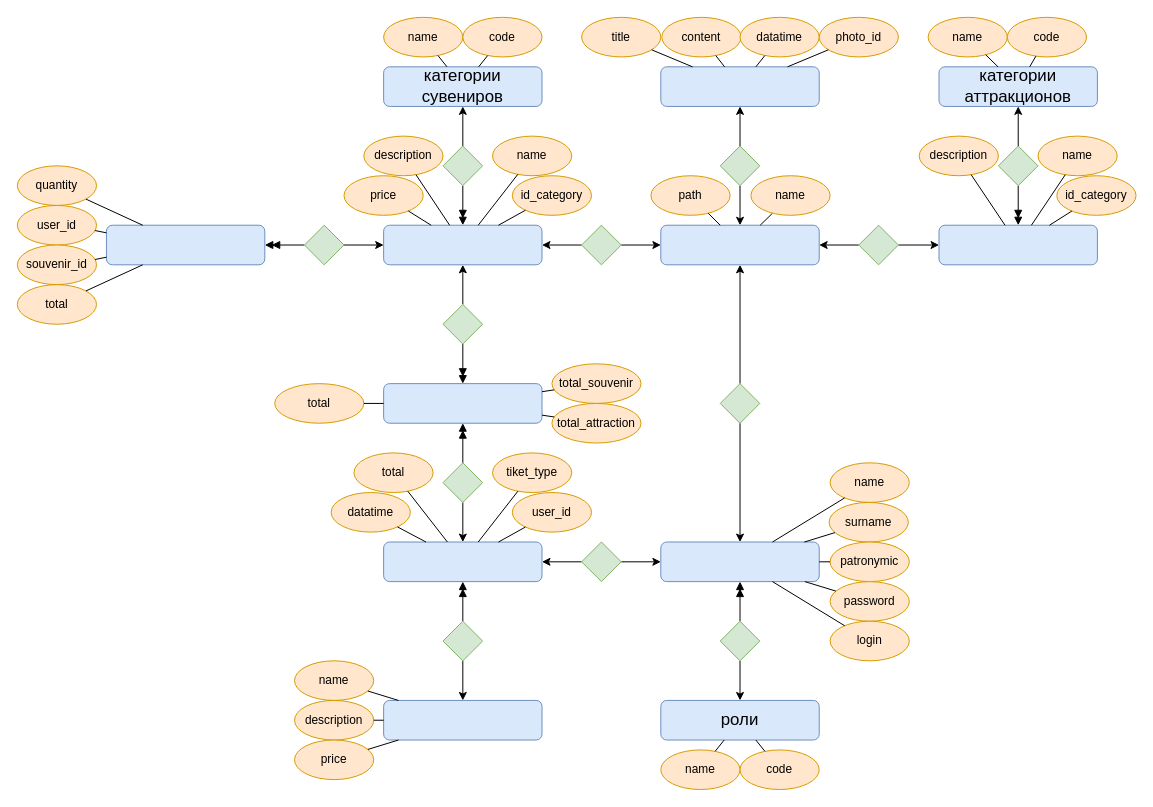
Some shapes in this 1153 by 807 pixel diagram are drawn without their labels. Here are the shapes that lost their labels. From the top down, the centre of each, then its label:
point 739,86: новости
point 185,244: корзина
point 462,244: сувениры
point 739,244: фото
point 1017,244: аттракционы
point 462,403: статистика доходов
point 462,561: билеты
point 739,561: пользователи
point 462,719: Тип_билета
